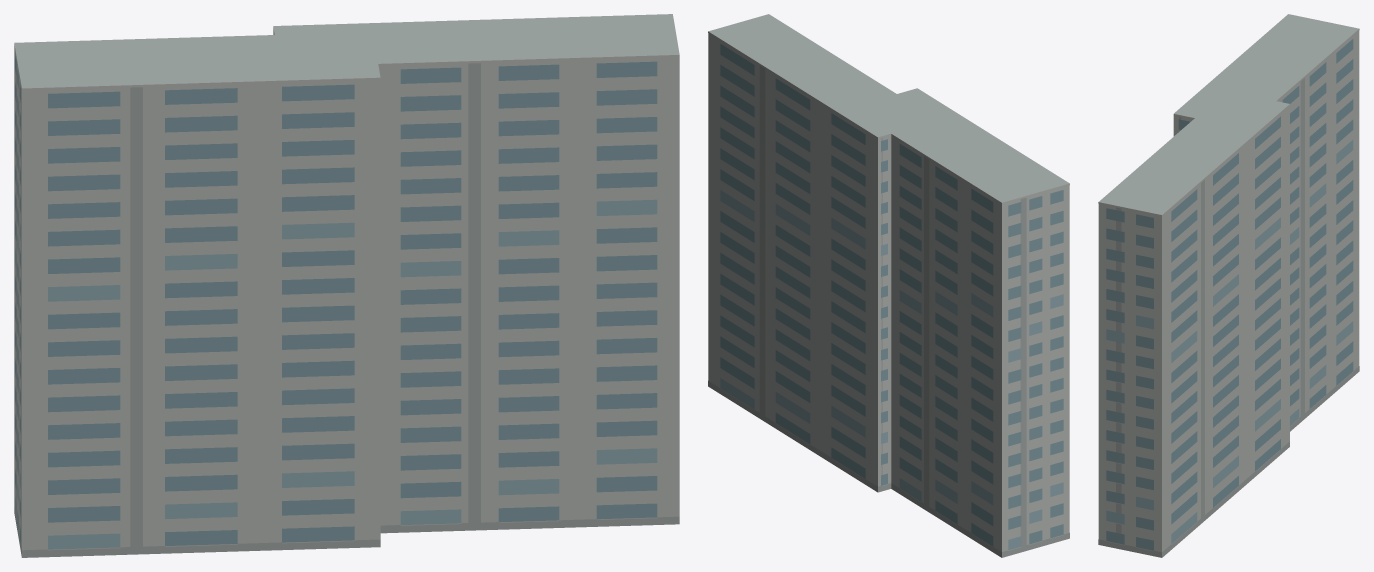
Rendered from residential-c8c1fa09-cd2e-437d-8331-c73519422904.glb.
3 views of the same model, side by side, from view 1: azimuth 30°, elevation 25°; view 2: azimuth 150°, elevation 25°; view 3: azimuth 270°, elevation 25° (orthographic). The views are drawn at different scales.
Visible parts, largest first — view 1: residential-c8c1fa09-cd2e-437d-8331-c73519422904.tmp; view 2: residential-c8c1fa09-cd2e-437d-8331-c73519422904.tmp; view 3: residential-c8c1fa09-cd2e-437d-8331-c73519422904.tmp.
Part boxes in pixels (x1,y1,x2,y2): residential-c8c1fa09-cd2e-437d-8331-c73519422904.tmp: (14,14,679,557); residential-c8c1fa09-cd2e-437d-8331-c73519422904.tmp: (708,14,1069,557); residential-c8c1fa09-cd2e-437d-8331-c73519422904.tmp: (1098,14,1359,557).
Bounding box in the file's own units: 61.66 × 49 × 33.82.
